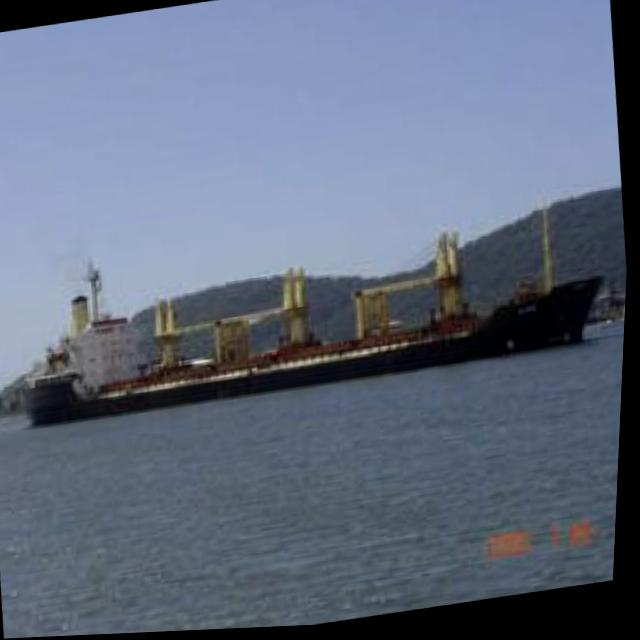ship2: (26, 210, 614, 426)
